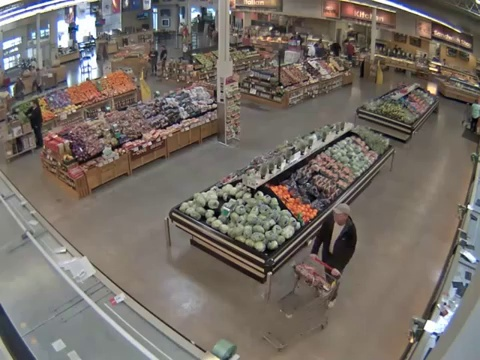face: (334, 211, 346, 222)
